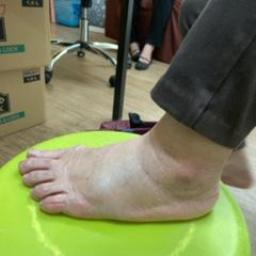Lateral View -Left Foot-: (11, 106, 242, 236)
